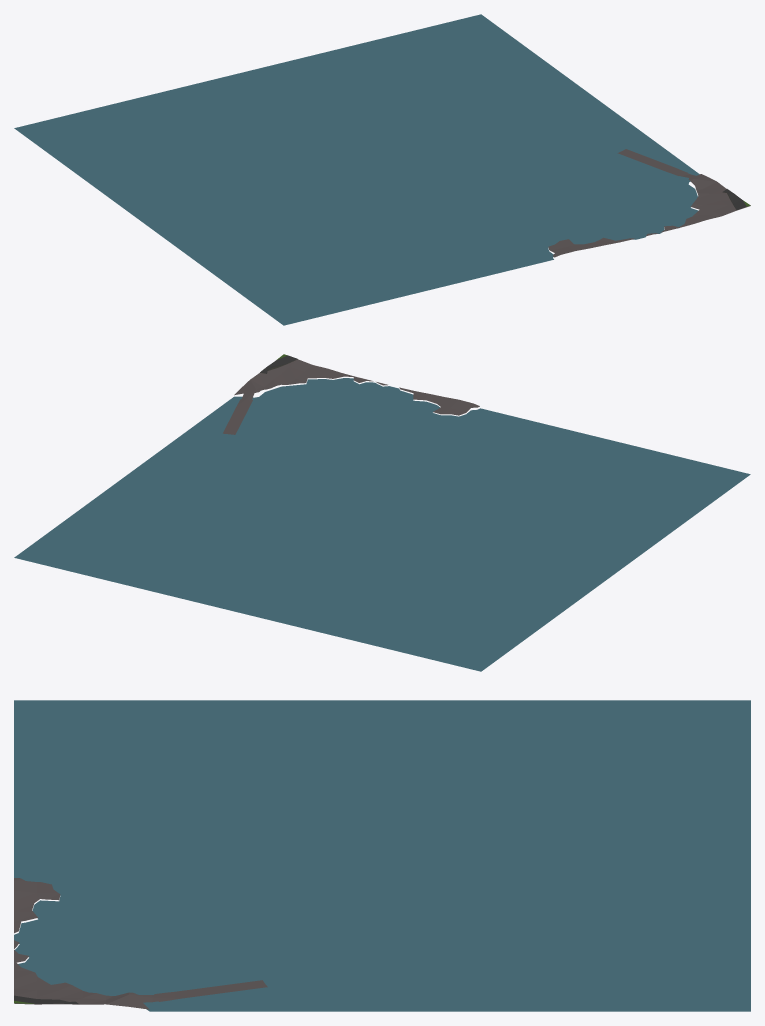
3 renders of one model, top to bottom at view 1: azimuth 30°, elevation 25°; view 2: azimuth 150°, elevation 25°; view 3: azimuth 270°, elevation 25°, orthographic. The views are drawn at different scales.
Visible parts, largest first — view 1: c_m01_p13; view 2: c_m01_p13; view 3: c_m01_p13.
Boxes of the visible parts, x1,y1,x2,y2 form: c_m01_p13: (14,14,750,325); c_m01_p13: (14,354,750,671); c_m01_p13: (14,700,750,1011).
Size of the model in its own units: 128 by 1.61 by 128.
